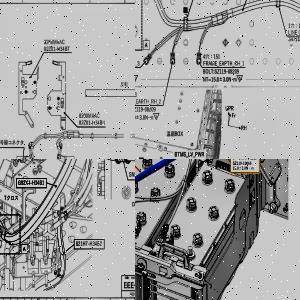PartNumber: (44, 44, 70, 52), (76, 240, 102, 247), (79, 119, 106, 125), (18, 180, 44, 186), (215, 68, 240, 74), (135, 106, 156, 113), (232, 160, 252, 166), (288, 36, 300, 42), (128, 170, 135, 178)
